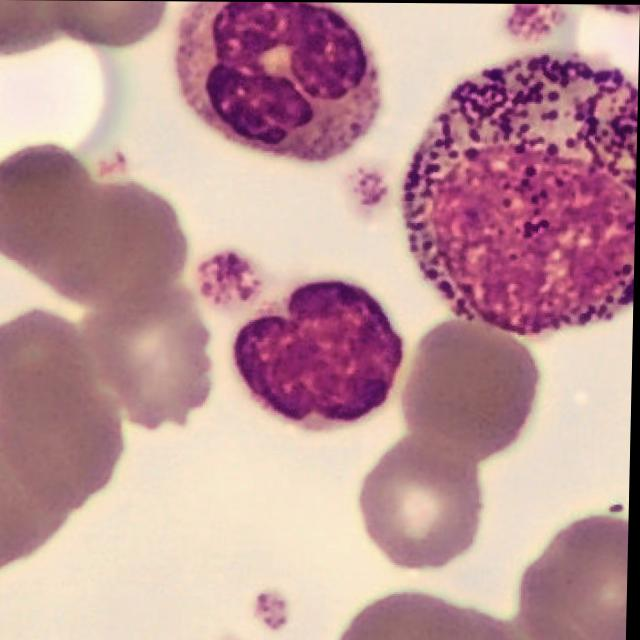Linfocito: (235, 280, 402, 424)
Neutrofilo segmentado: (172, 1, 382, 164)
Promielocito: (402, 54, 639, 338)
